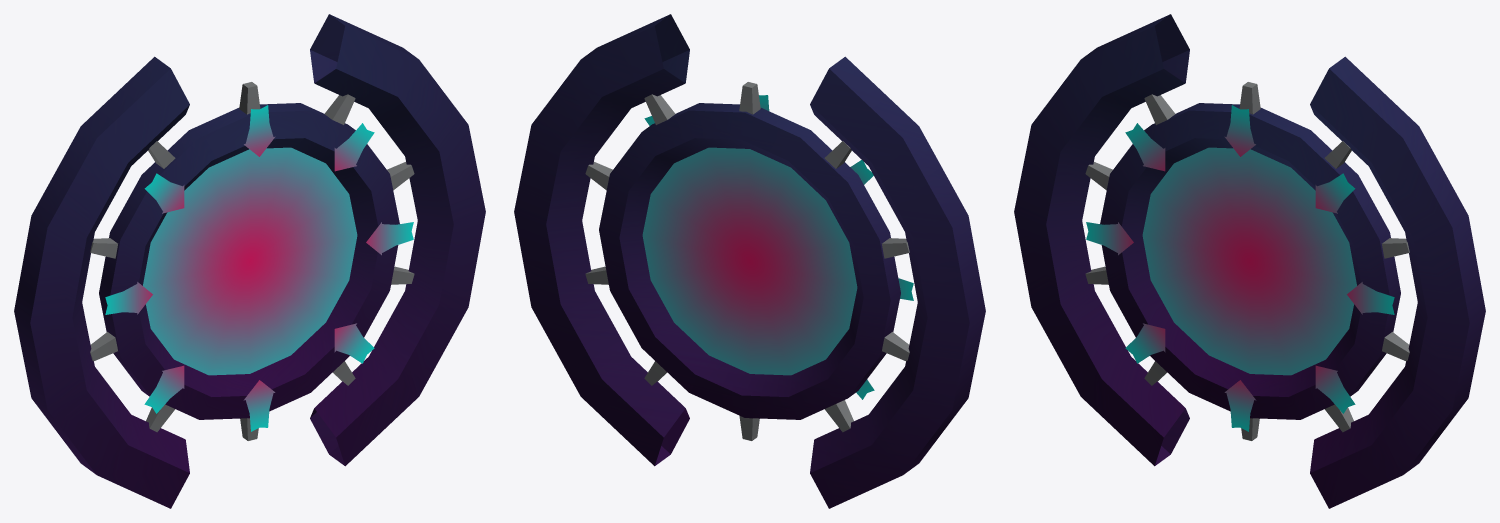
The model's file is SM_PortalRidged.fbx.
The picture shows the model from 3 angles, left to right: view 1: azimuth 30°, elevation 25°; view 2: azimuth 150°, elevation 25°; view 3: azimuth 330°, elevation 25°; orthographic projection.
Visible parts, largest first — view 1: SM_PortalRidged; view 2: SM_PortalRidged; view 3: SM_PortalRidged.
Boxes of the visible parts, bbox=[...] form: SM_PortalRidged: bbox=[14, 14, 485, 508]; SM_PortalRidged: bbox=[514, 14, 985, 508]; SM_PortalRidged: bbox=[1014, 14, 1485, 508].
Size of the model in its own units: 609 by 562 by 60.66.
